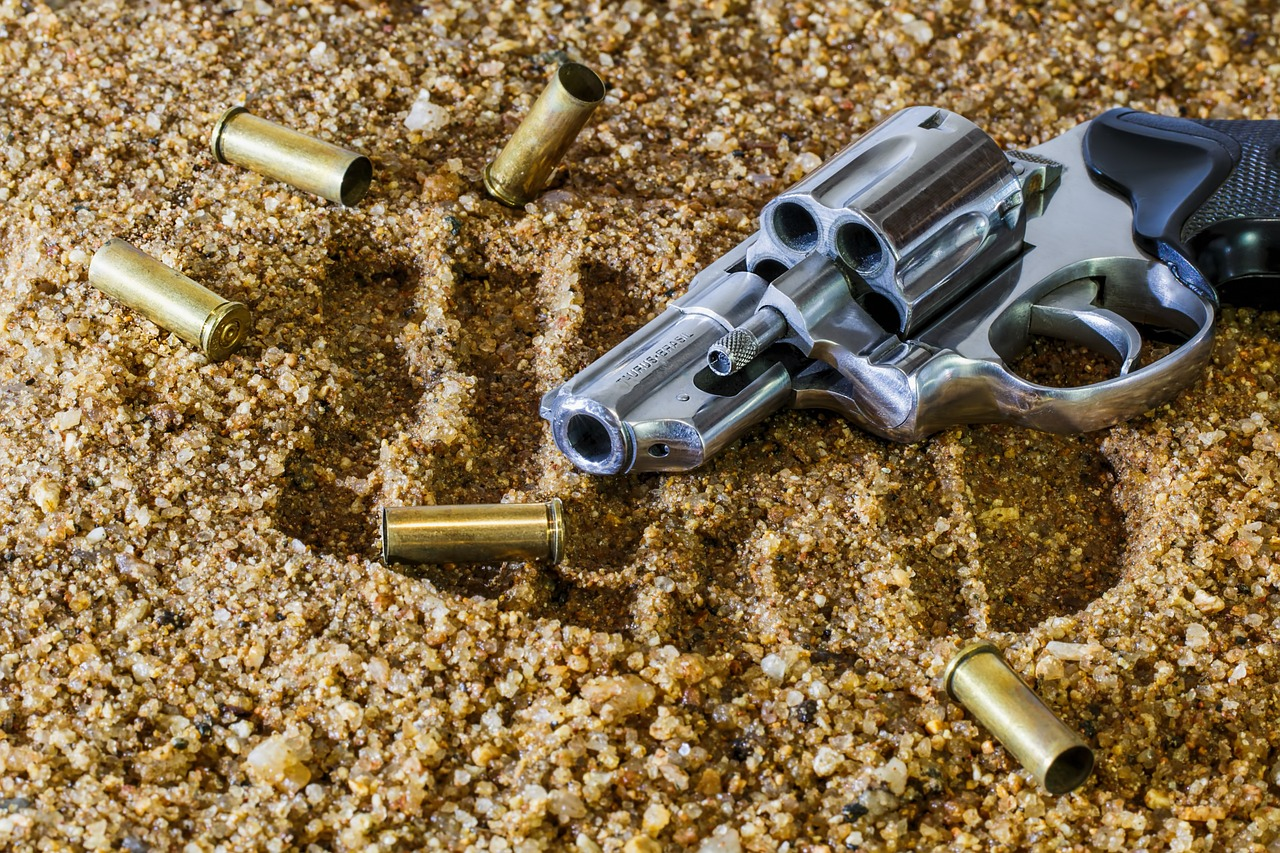gun: (537, 97, 1280, 485)
